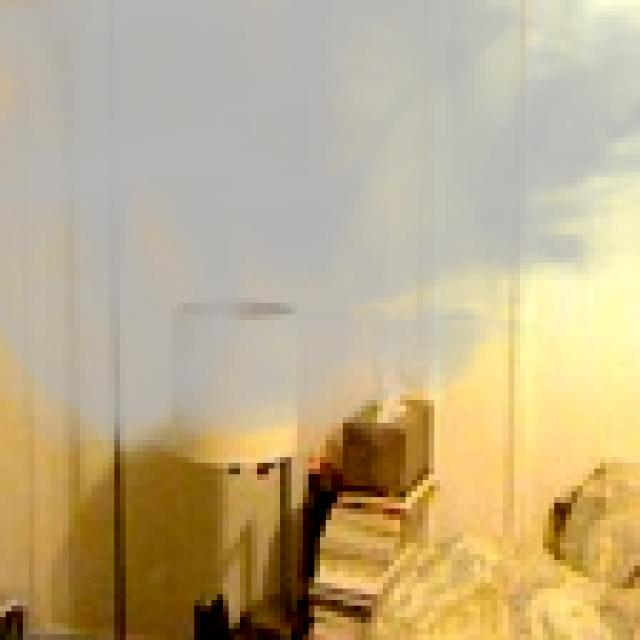smoke: (0, 0, 640, 469)
